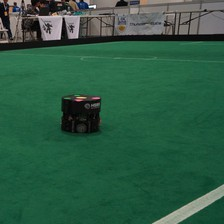robot: (58, 90, 105, 136)
